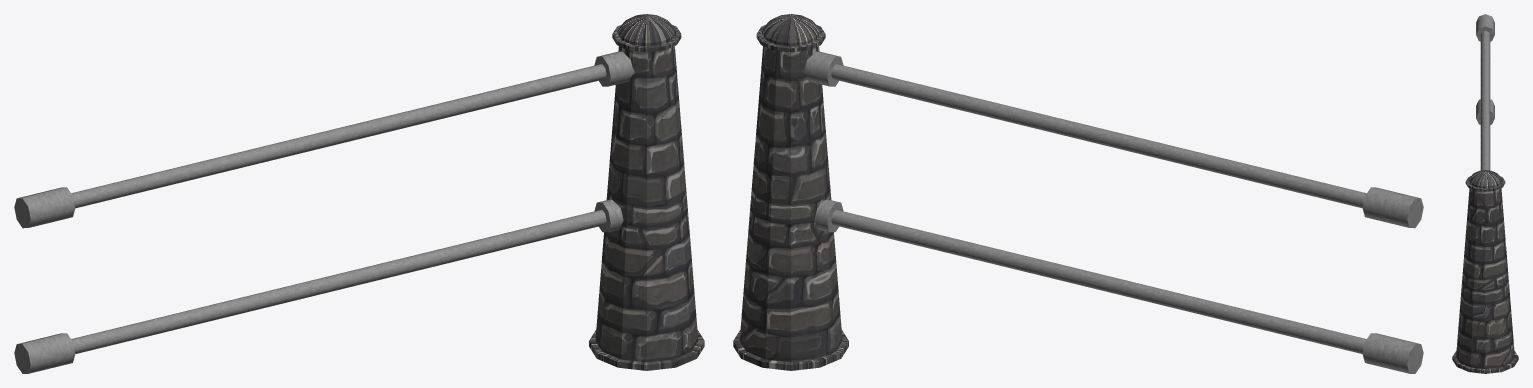
File: Fence.fbx
The picture shows the model from 3 angles, left to right: view 1: azimuth 30°, elevation 25°; view 2: azimuth 150°, elevation 25°; view 3: azimuth 270°, elevation 25°; orthographic projection. The views are drawn at different scales.
Visible parts, largest first — view 1: Cylinder, Cylinder_1, Cylinder_2; view 2: Cylinder, Cylinder_1, Cylinder_2; view 3: Cylinder, Cylinder_1, Cylinder_2.
Boxes of the visible parts, x1,y1,x2,y2 form: Cylinder: (589,14,704,370); Cylinder_1: (14,51,634,228); Cylinder_2: (14,199,623,373); Cylinder: (733,14,848,370); Cylinder_1: (803,51,1423,228); Cylinder_2: (814,199,1423,373); Cylinder: (1452,170,1518,373); Cylinder_1: (1476,14,1494,170); Cylinder_2: (1476,99,1494,124).
Bounding box in the file's own units: 1620 × 757 × 241.
Materials: 2 (2 with a texture image).
